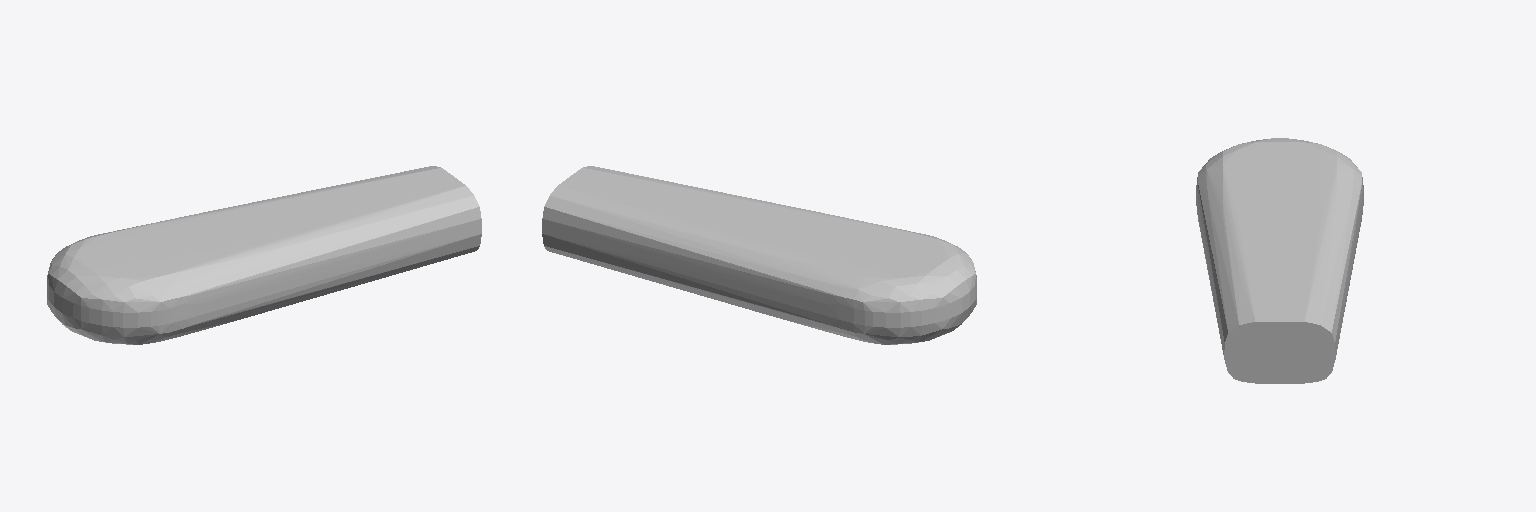
Rendered from skillet_collision_15.obj.
3 renders of one model, left to right at view 1: azimuth 30°, elevation 25°; view 2: azimuth 150°, elevation 25°; view 3: azimuth 270°, elevation 25°, orthographic.
Bounding box in the file's own units: 0.0904 × 0.0136 × 0.0332.